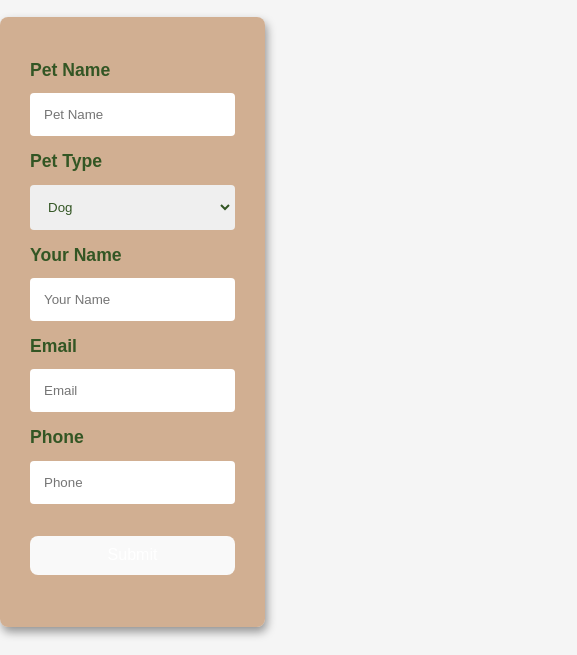
Test: PetAdoptionForm Component › renders the adopter data table after form submission
Type "Buddy" into the field with placeholder "Pet Name" at (132, 115), box 30,93 -> 235,136
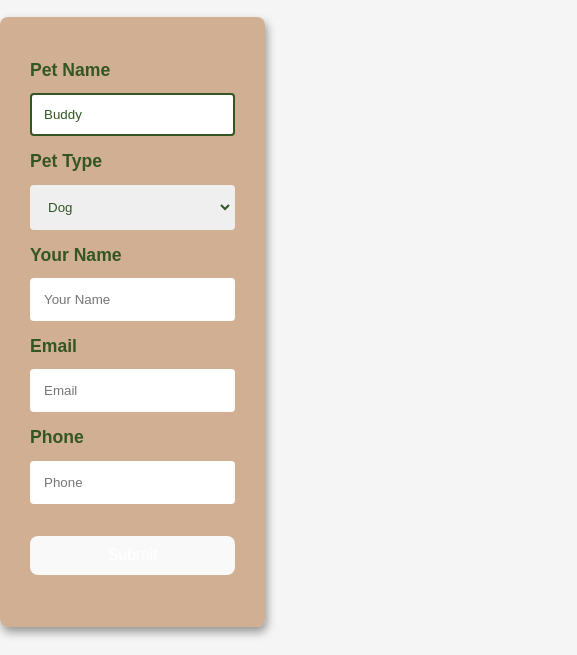
Type "John Doe" into the field with placeholder "Your Name" at (132, 300), box 30,278 -> 235,321
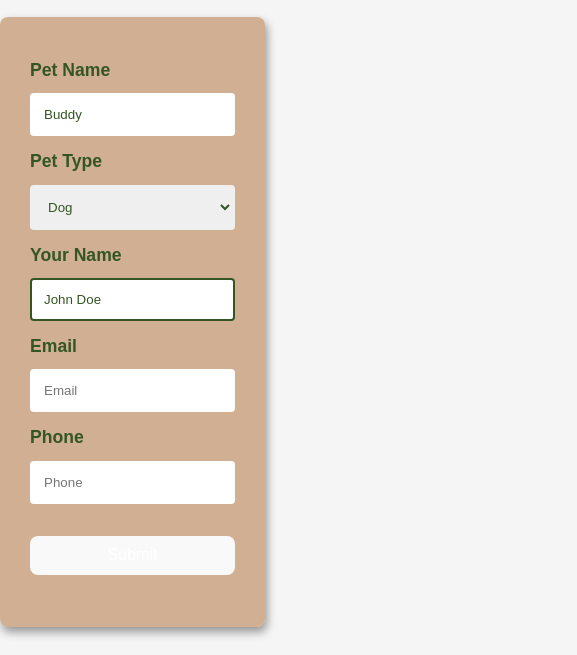
Type "john@example.com" into the field with placeholder "Email" at (132, 391), box 30,370 -> 235,412
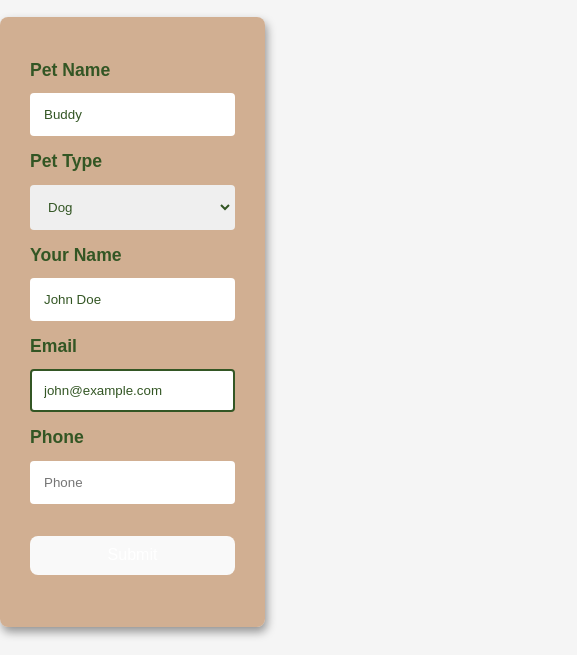
Type "1234567890" into the field with placeholder "Phone" at (132, 482), box 30,461 -> 235,504
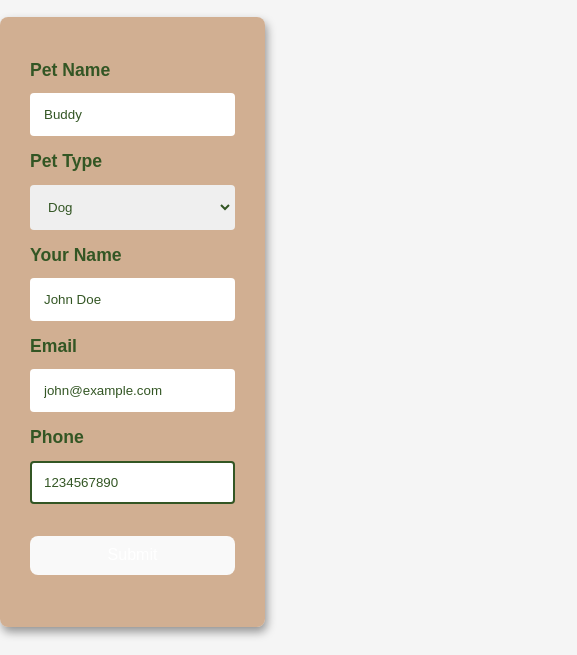
Click the button "Submit" at (132, 556), box 30,536 -> 235,575
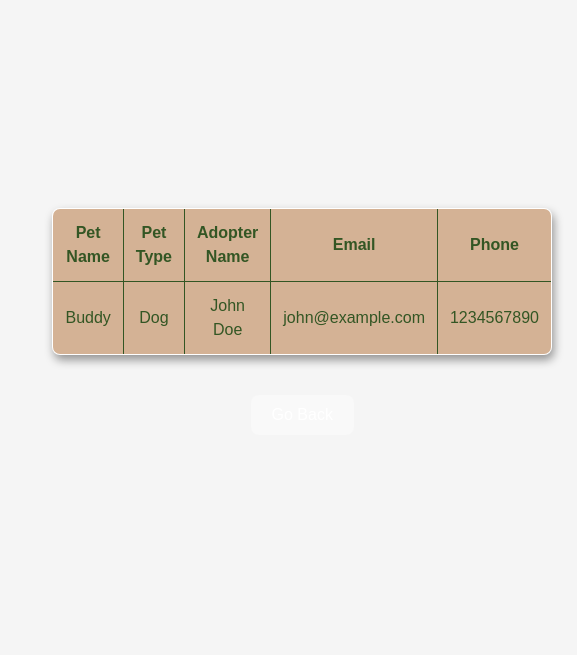
Now the text "Buddy" is shown, box 53,281 -> 123,354
Now the text "John Doe" is shown, box 184,281 -> 271,354
